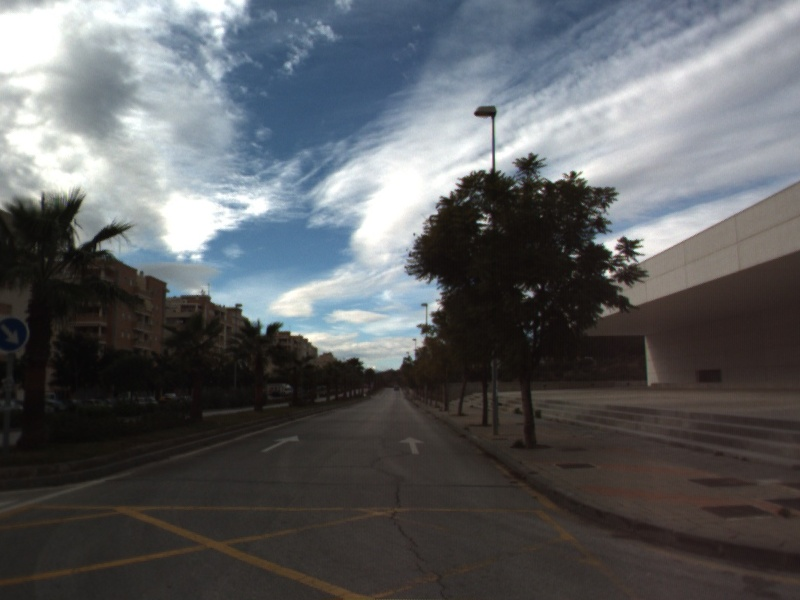STRAIGHT: (259, 433, 301, 454), (397, 435, 426, 456)
